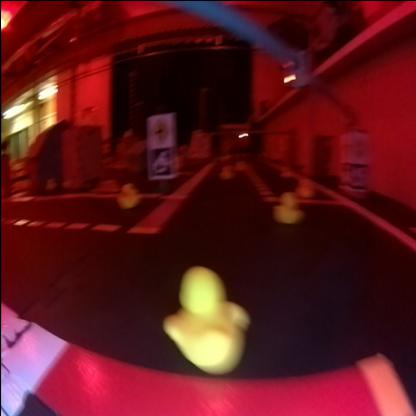Duckie: (163, 266, 250, 366), (274, 191, 304, 222), (115, 180, 138, 207)
Intersection sign: (152, 117, 170, 144)
QR code: (150, 146, 171, 174)
